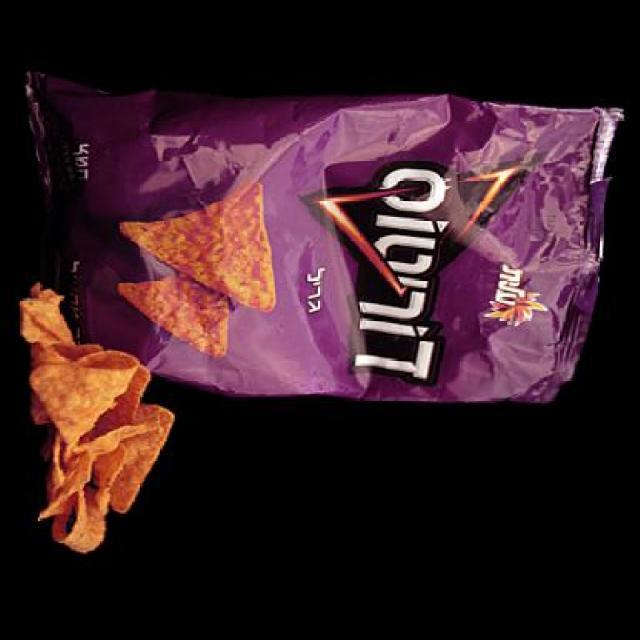Chips: (32, 80, 628, 394)
Chips packaged: (10, 316, 202, 560)
